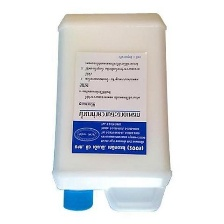cleaning_solution: (48, 8, 173, 217)
